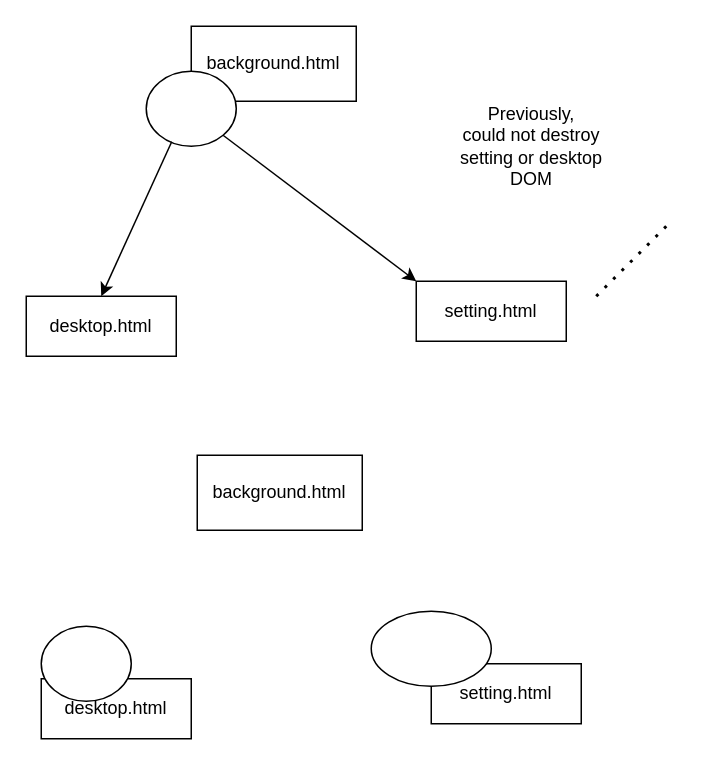
The diagram is 701 pixels wide and 765 high, and some of its shapes have lost their labels. Each missing label, with the centre of its shape:
"desktop Store" belongs at point 85,663.
"setting Store" belongs at point 430,648.
"Store object" belongs at point 190,108.
